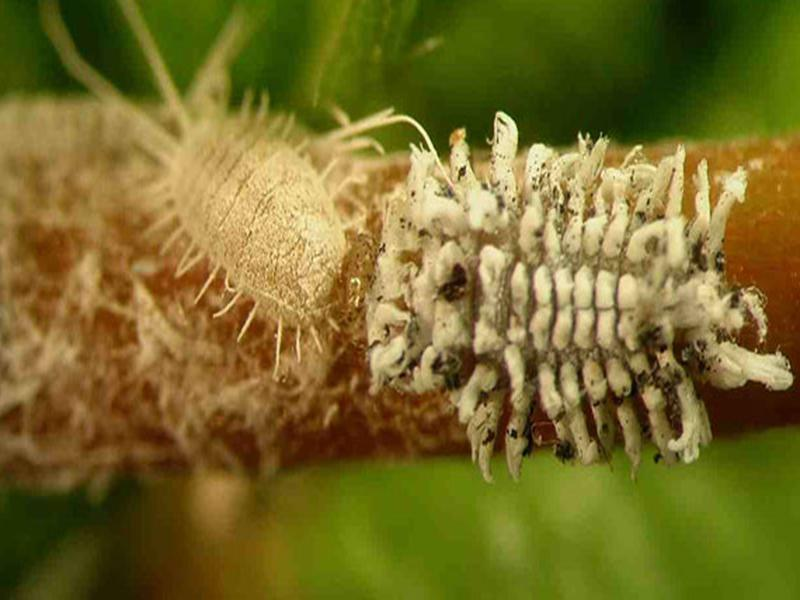Mealy_bug: (382, 154, 740, 458), (156, 94, 353, 324)
